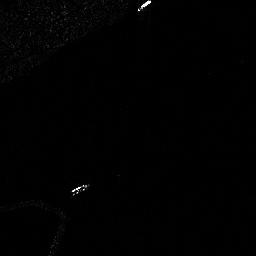ship: (70, 182, 90, 197), (137, 1, 151, 11)
